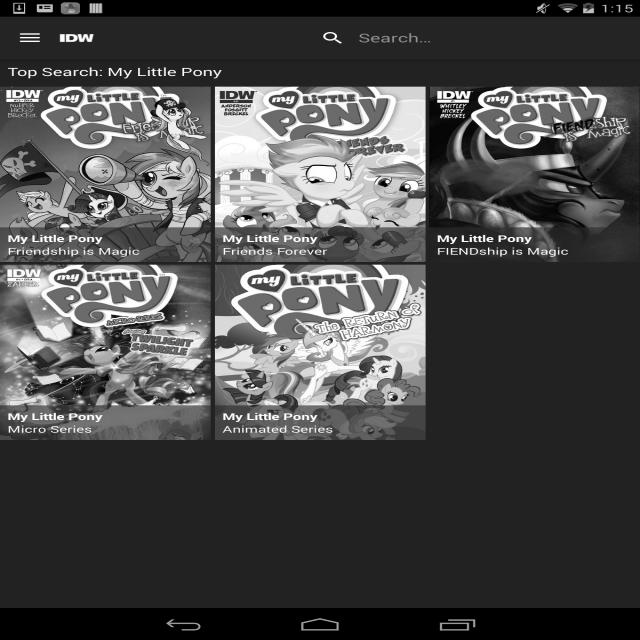EditText: (350, 26, 631, 50)
ImageButton: (0, 30, 60, 46)
ImageView: (0, 87, 211, 262), (215, 87, 426, 262), (429, 87, 640, 262), (0, 265, 211, 440), (215, 265, 426, 440), (60, 27, 94, 49), (316, 30, 350, 46)
TextView: (0, 59, 640, 84), (8, 232, 203, 245), (223, 232, 418, 245), (437, 232, 632, 245), (8, 410, 203, 423), (223, 410, 418, 423), (8, 245, 203, 257), (223, 245, 418, 257), (437, 245, 632, 257), (8, 423, 203, 435), (223, 423, 418, 435)
